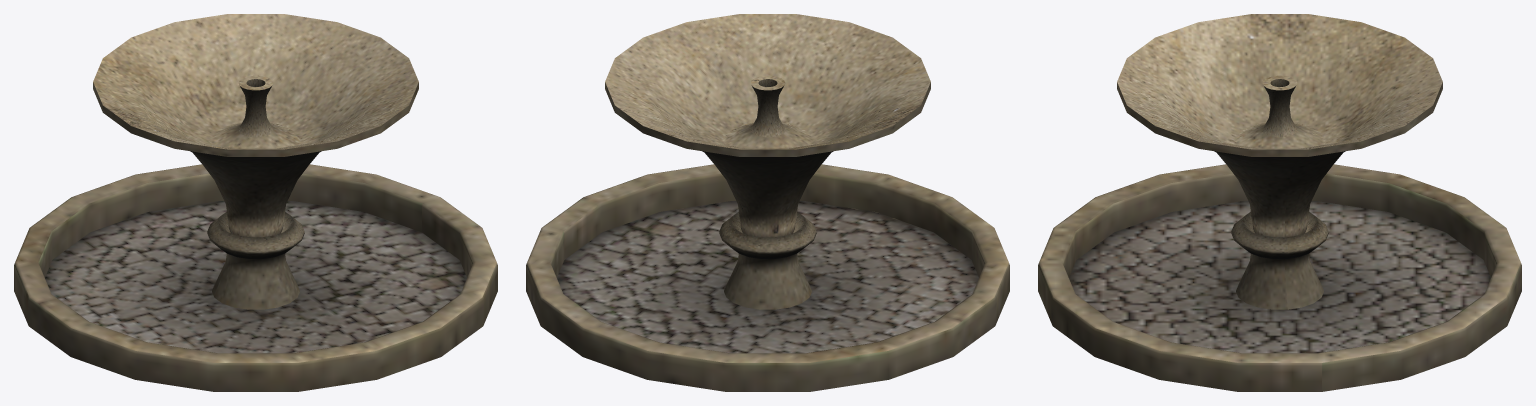
File: fountain.obj
The picture shows the model from 3 angles, left to right: view 1: azimuth 30°, elevation 25°; view 2: azimuth 150°, elevation 25°; view 3: azimuth 270°, elevation 25°; orthographic projection.
Visible parts, largest first — view 1: fountain; view 2: fountain; view 3: fountain.
Boxes of the visible parts, bbox=[...] form: fountain: bbox=[14, 14, 497, 391]; fountain: bbox=[526, 14, 1009, 391]; fountain: bbox=[1038, 14, 1521, 391].
Bounding box in the file's own units: 74.22 × 36.01 × 75.37.
